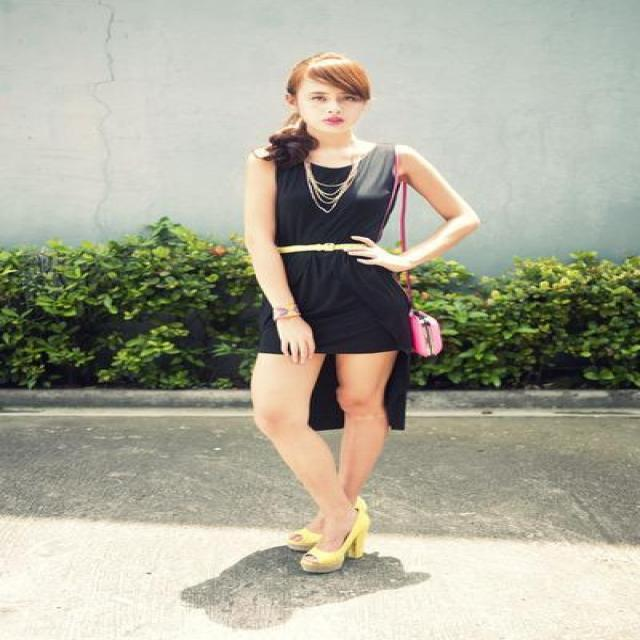bag: (410, 309, 456, 356)
dress: (229, 147, 440, 430)
shoe: (280, 499, 368, 571)
